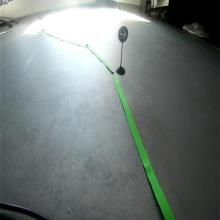right: (118, 25, 128, 42)
